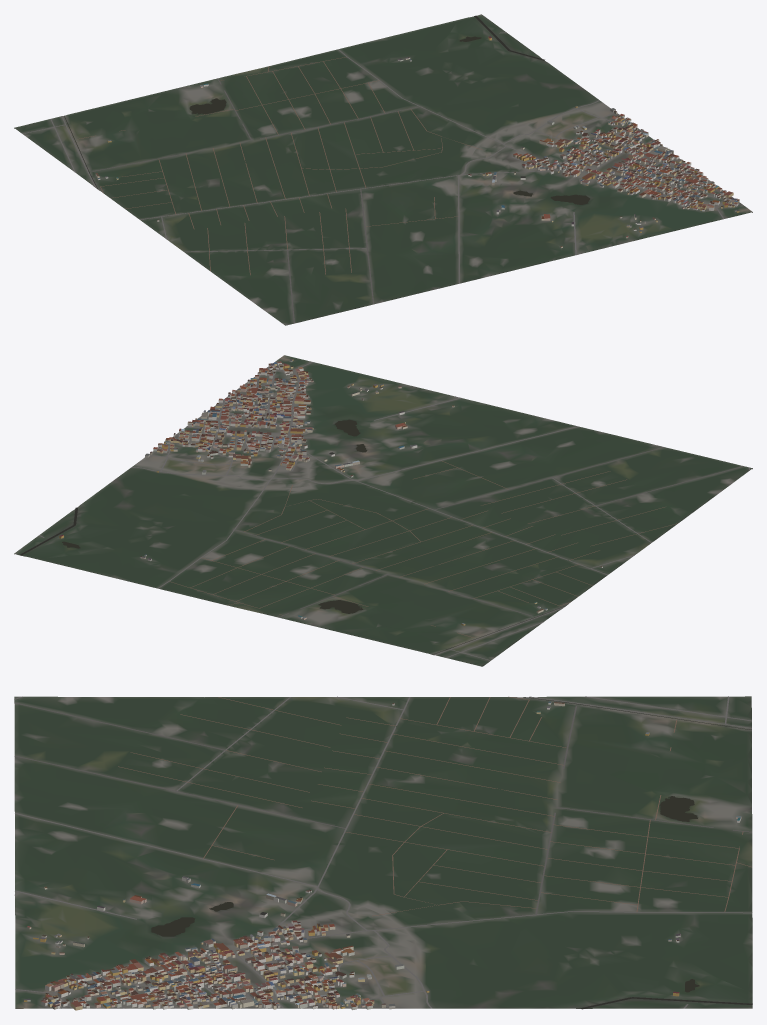
3 renders of one model, top to bottom at view 1: azimuth 30°, elevation 25°; view 2: azimuth 150°, elevation 25°; view 3: azimuth 270°, elevation 25°, orthographic. The views are drawn at different scales.
Parts seen in each view (by area): view 1: ground, buildings, roads, water; view 2: ground, buildings, roads, water; view 3: ground, buildings, roads, water.
Boxes of the visible parts, x1,y1,x2,y2 form: ground: (14,14,752,325); buildings: (95,36,739,247); roads: (22,32,738,324); water: (64,15,589,204); ground: (14,355,752,666); buildings: (59,358,602,625); roads: (39,362,750,660); water: (20,419,566,654); ground: (14,696,752,1008); buildings: (24,701,741,1010); roads: (14,696,752,1008); water: (151,697,752,1009).
Bounding box in the file's own units: 1410 × 15.4 × 1405.
